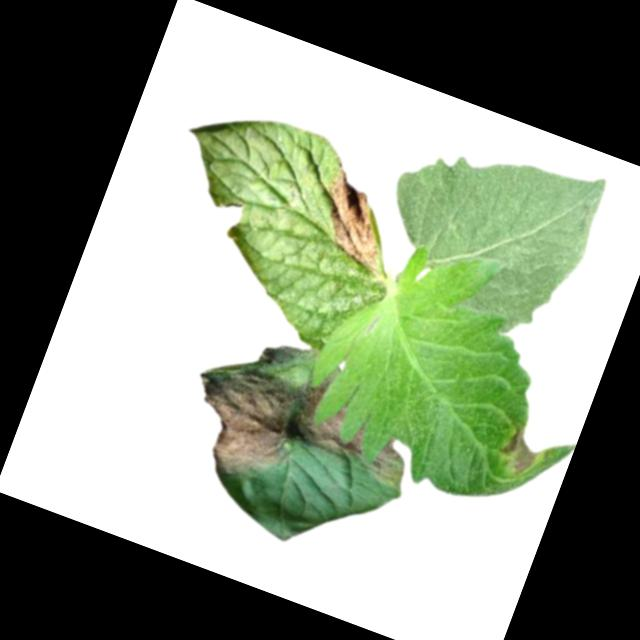Late_blight: (174, 350, 309, 492), (286, 381, 422, 489), (299, 160, 412, 281), (492, 415, 555, 485), (257, 334, 317, 382)
